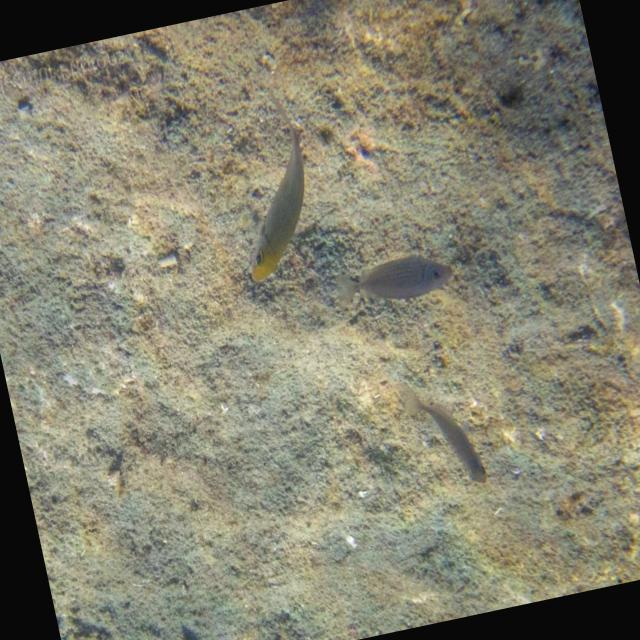Sokar Baligi: (208, 92, 338, 292), (390, 360, 510, 518), (323, 240, 465, 334)
